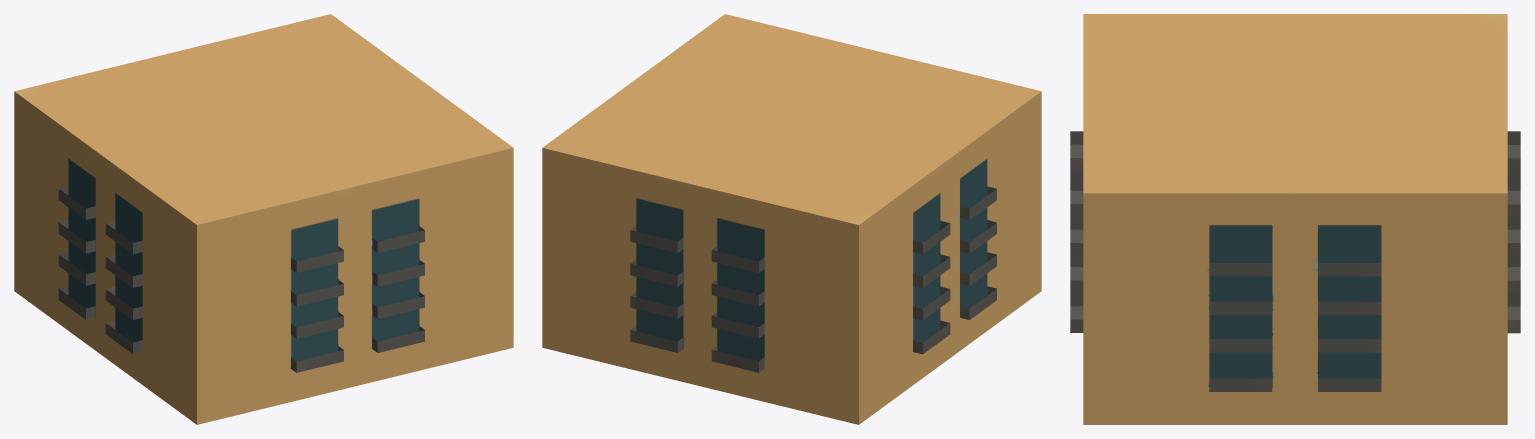
The model's file is Edificio_BalconessinBase.fbx.
The picture shows the model from 3 angles, left to right: view 1: azimuth 30°, elevation 25°; view 2: azimuth 150°, elevation 25°; view 3: azimuth 270°, elevation 25°; orthographic projection. The views are drawn at different scales.
Visible parts, largest first — view 1: 136_residential building texture.001; view 2: 136_residential building texture.001; view 3: 136_residential building texture.001.
Boxes of the visible parts, <box> form: 136_residential building texture.001: <box>14,14,513,424</box>; 136_residential building texture.001: <box>542,14,1041,424</box>; 136_residential building texture.001: <box>1070,14,1520,424</box>.
Bounding box in the file's own units: 5527 × 3140 × 5527.
1 material, 1 textured.
